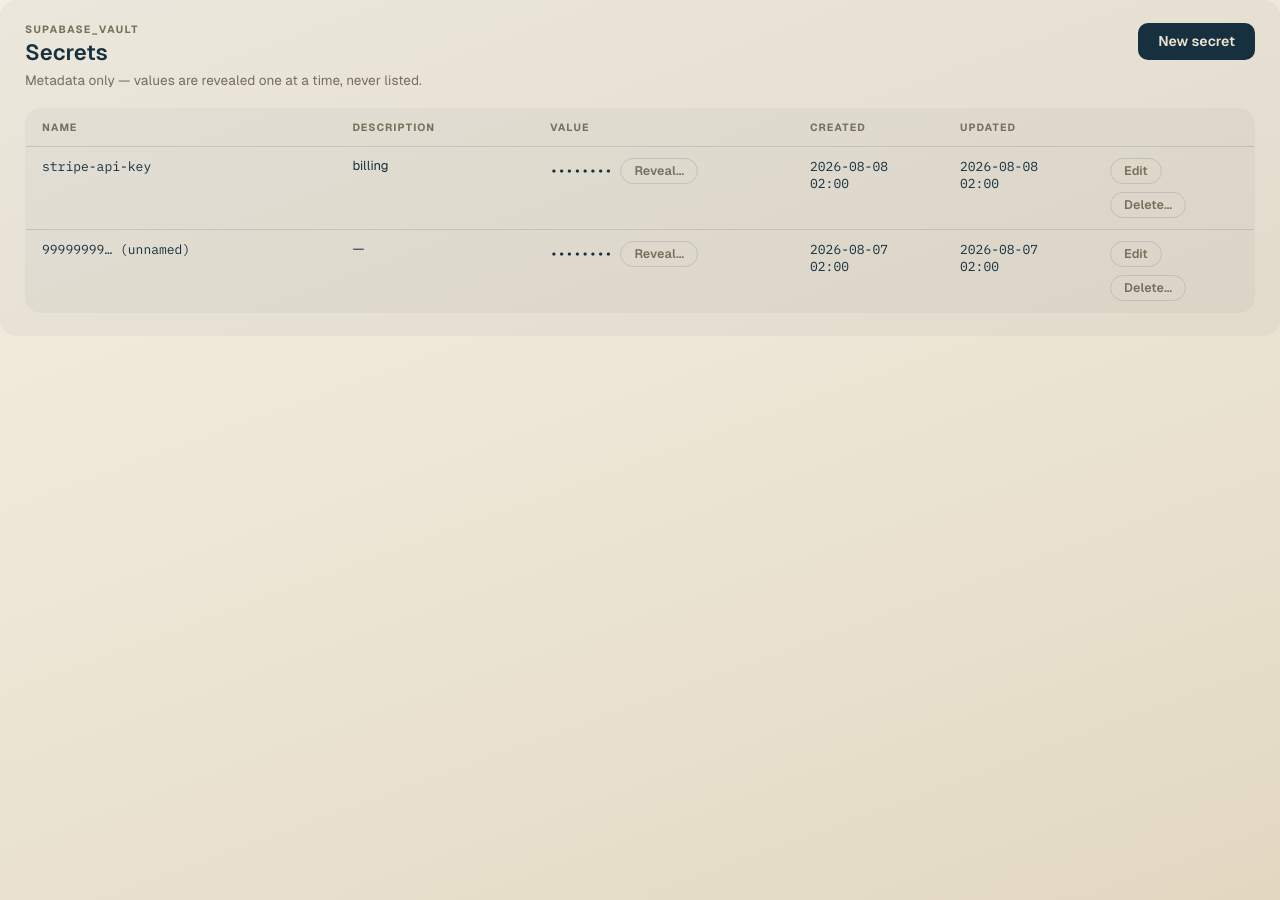
Test case: VaultClient › Hide masks the value again; nothing touches the clipboard
Click the button "Reveal…" in the row of "stripe-api-key". click: (659, 170)
box: [620,158,698,184]
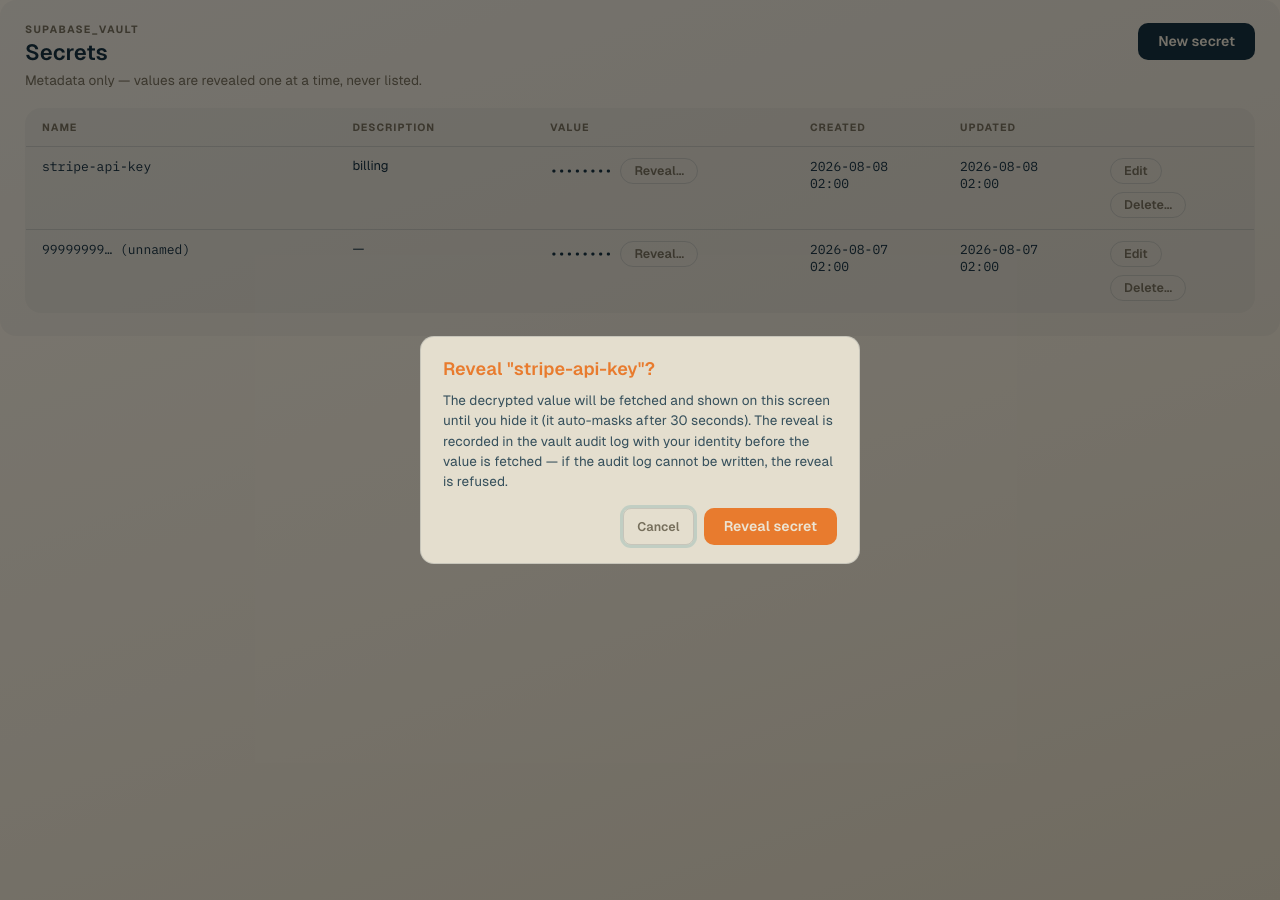
Click the button "Reveal secret". click: (770, 527)
box: [704,508,837,546]
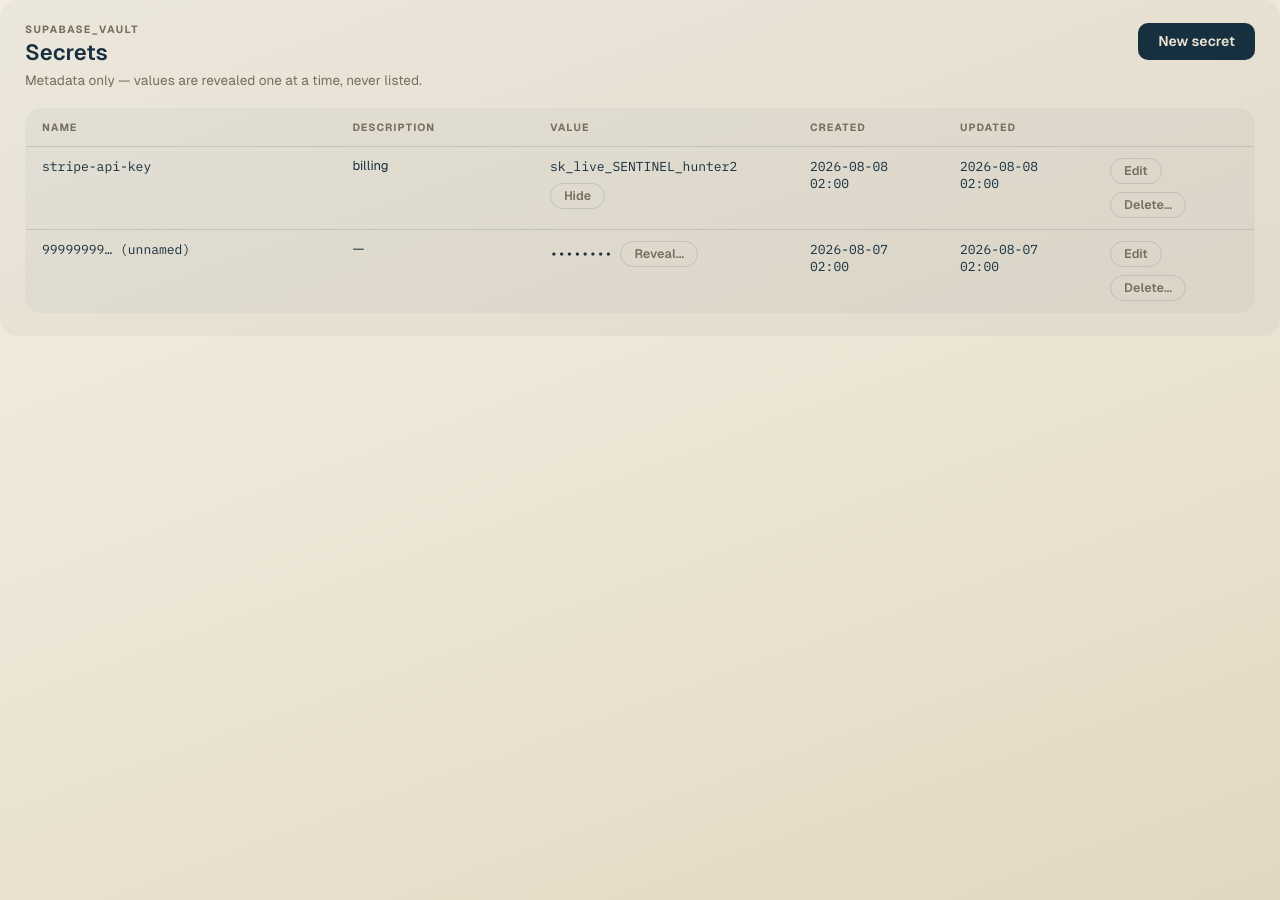
Check: the text "sk_live_SENTINEL_hunter2" is shown, box [550,158,737,174]
Click the button "Hide". click: (578, 196)
box: [550,182,605,208]
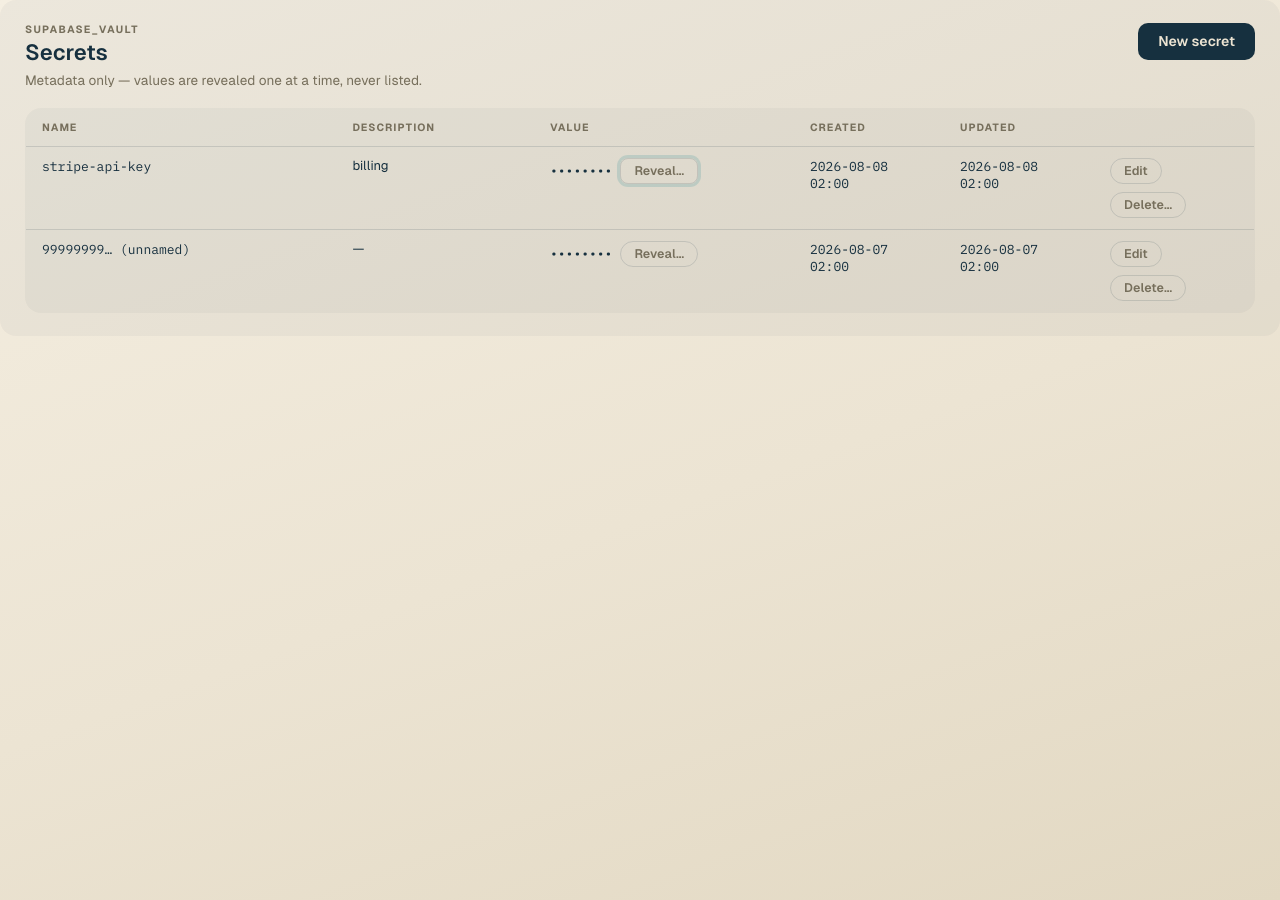
Check: the text "sk_live_SENTINEL_hunter2" is gone
